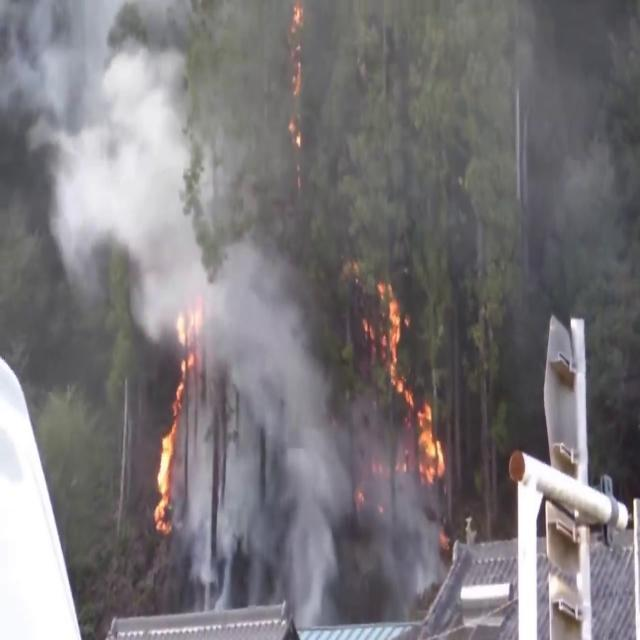Fire: (364, 270, 442, 490), (148, 404, 180, 536), (170, 298, 206, 410)
Smoke: (2, 0, 248, 364), (171, 225, 352, 599), (267, 408, 459, 626)
